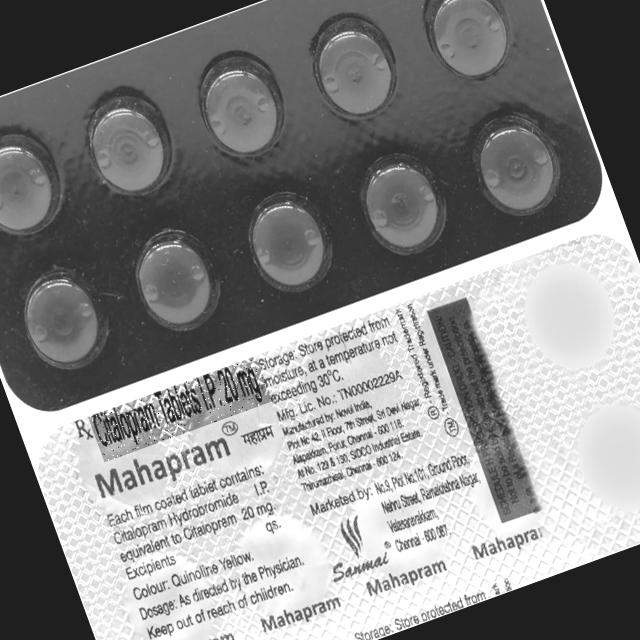Medicine-name: (89, 357, 274, 463)
